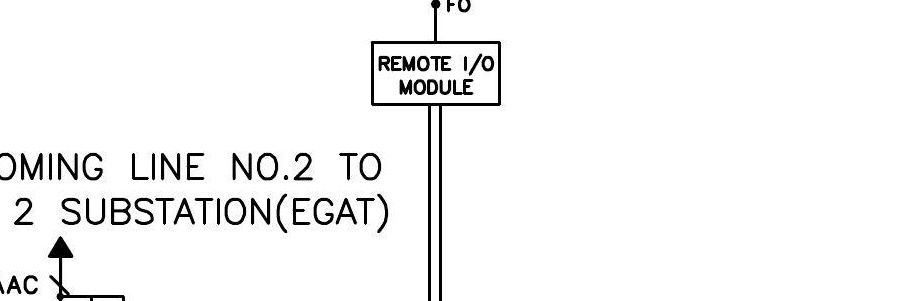remote_io_module: (370, 41, 501, 106)
